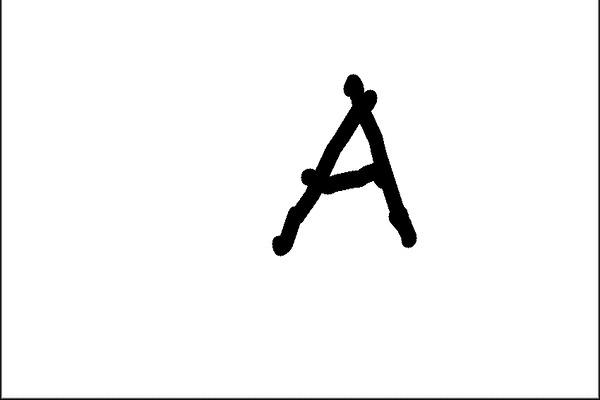A: (251, 62, 422, 262)
